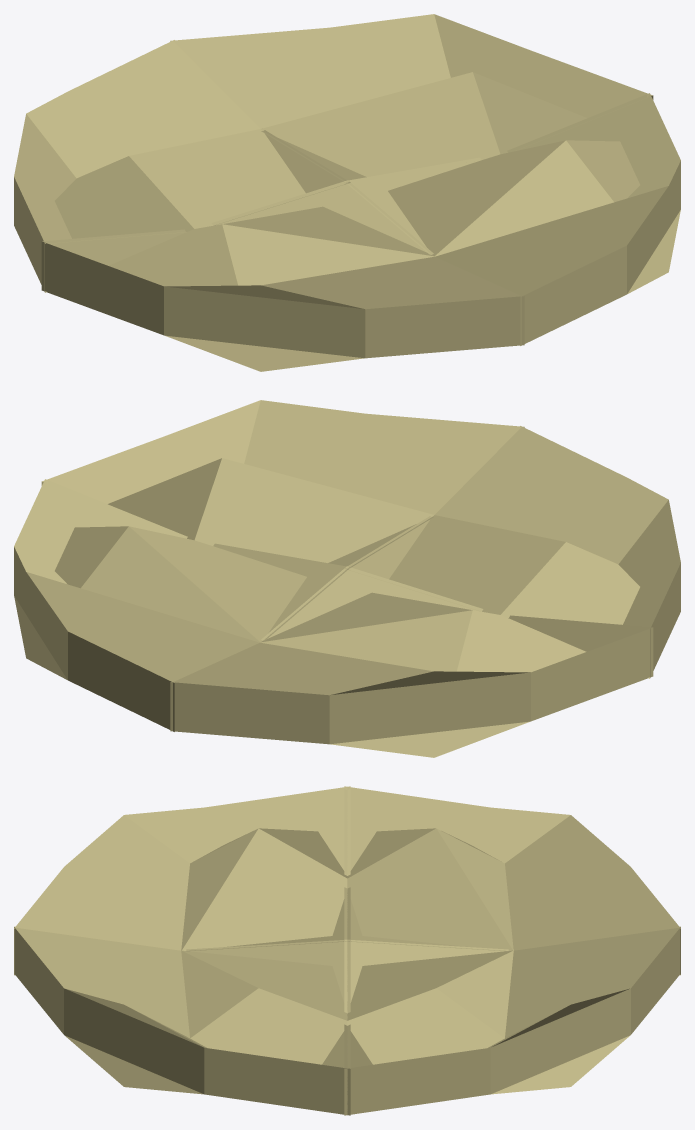
File: cebolla.fbx
The picture shows the model from 3 angles, top to bottom: view 1: azimuth 30°, elevation 25°; view 2: azimuth 150°, elevation 25°; view 3: azimuth 270°, elevation 25°; orthographic projection. The views are drawn at different scales.
Parts seen in each view (by area): view 1: Cebolla; view 2: Cebolla; view 3: Cebolla.
Boxes of the visible parts, x1,y1,x2,y2 form: Cebolla: [14, 14, 680, 371]; Cebolla: [14, 400, 680, 757]; Cebolla: [14, 786, 680, 1115].
Bounding box in the file's own units: 0.8974 × 0.1265 × 0.895.
